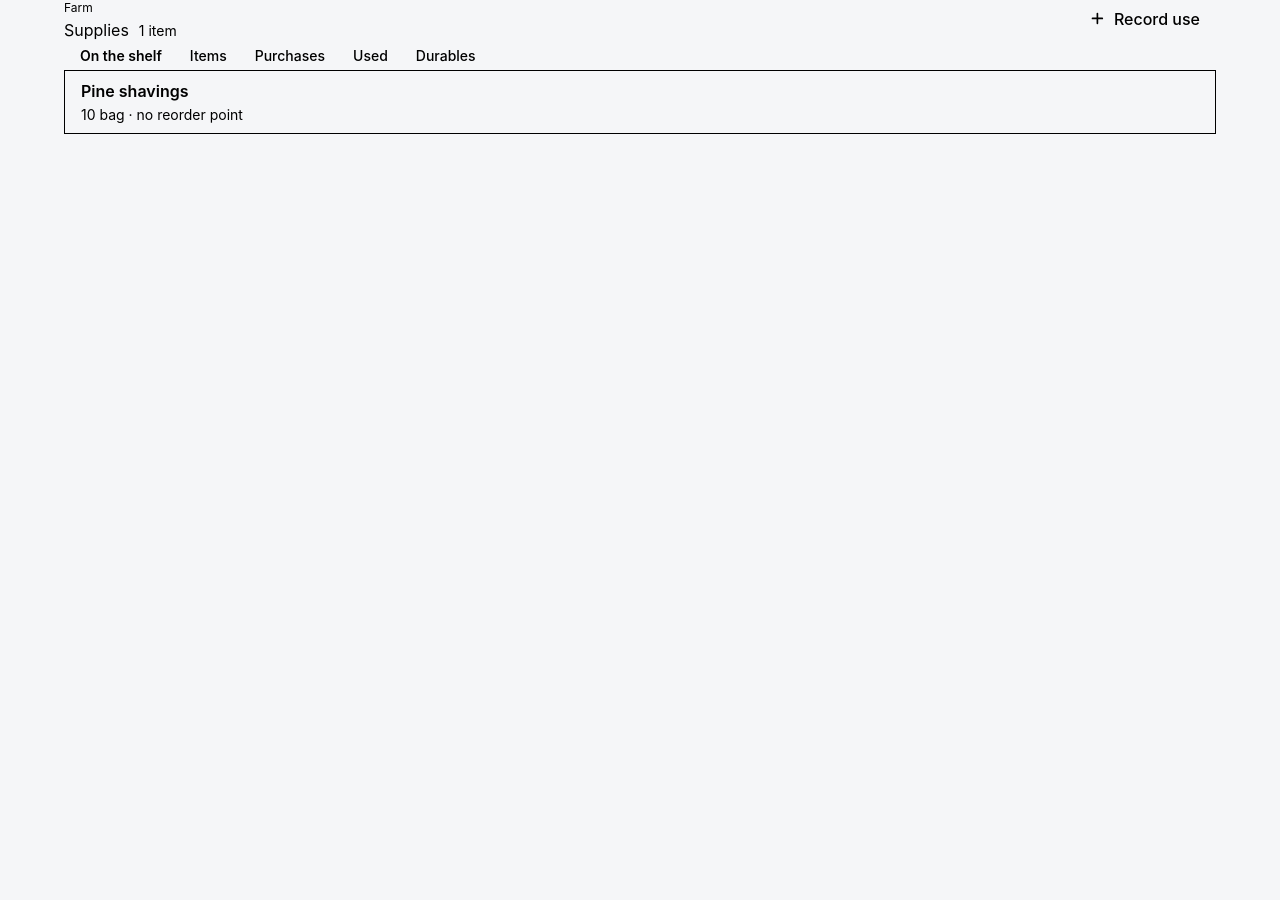
Test: The supplies shelf › starts a use from the item's row on the shelf
Click the button with aria-label "Record Pine shavings used". click: x=135, y=91
box: [65,71,1215,133]
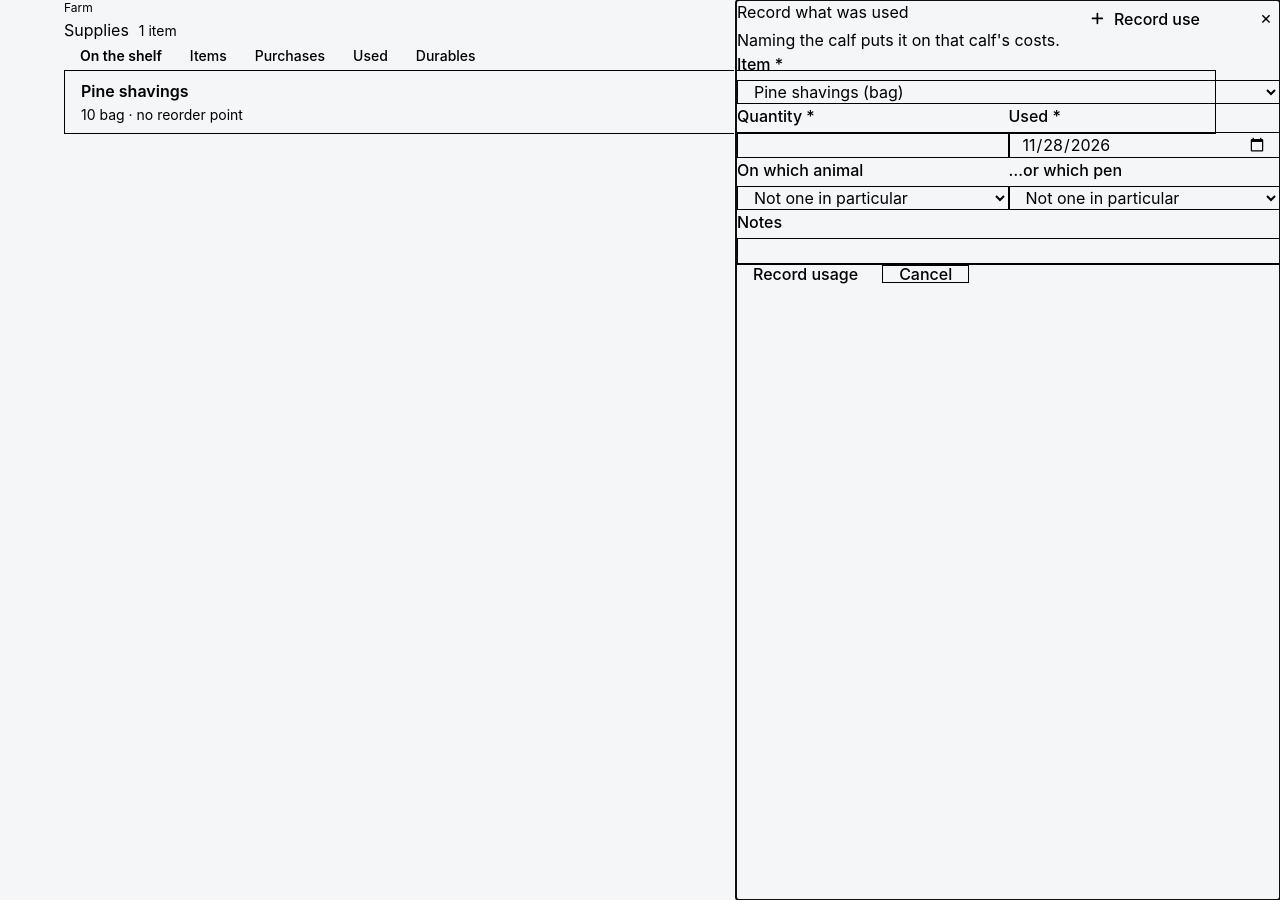
expect the dropdown labelled "Item *" shows "Pine shavings (bag)": met, box [737,80,1279,104]
